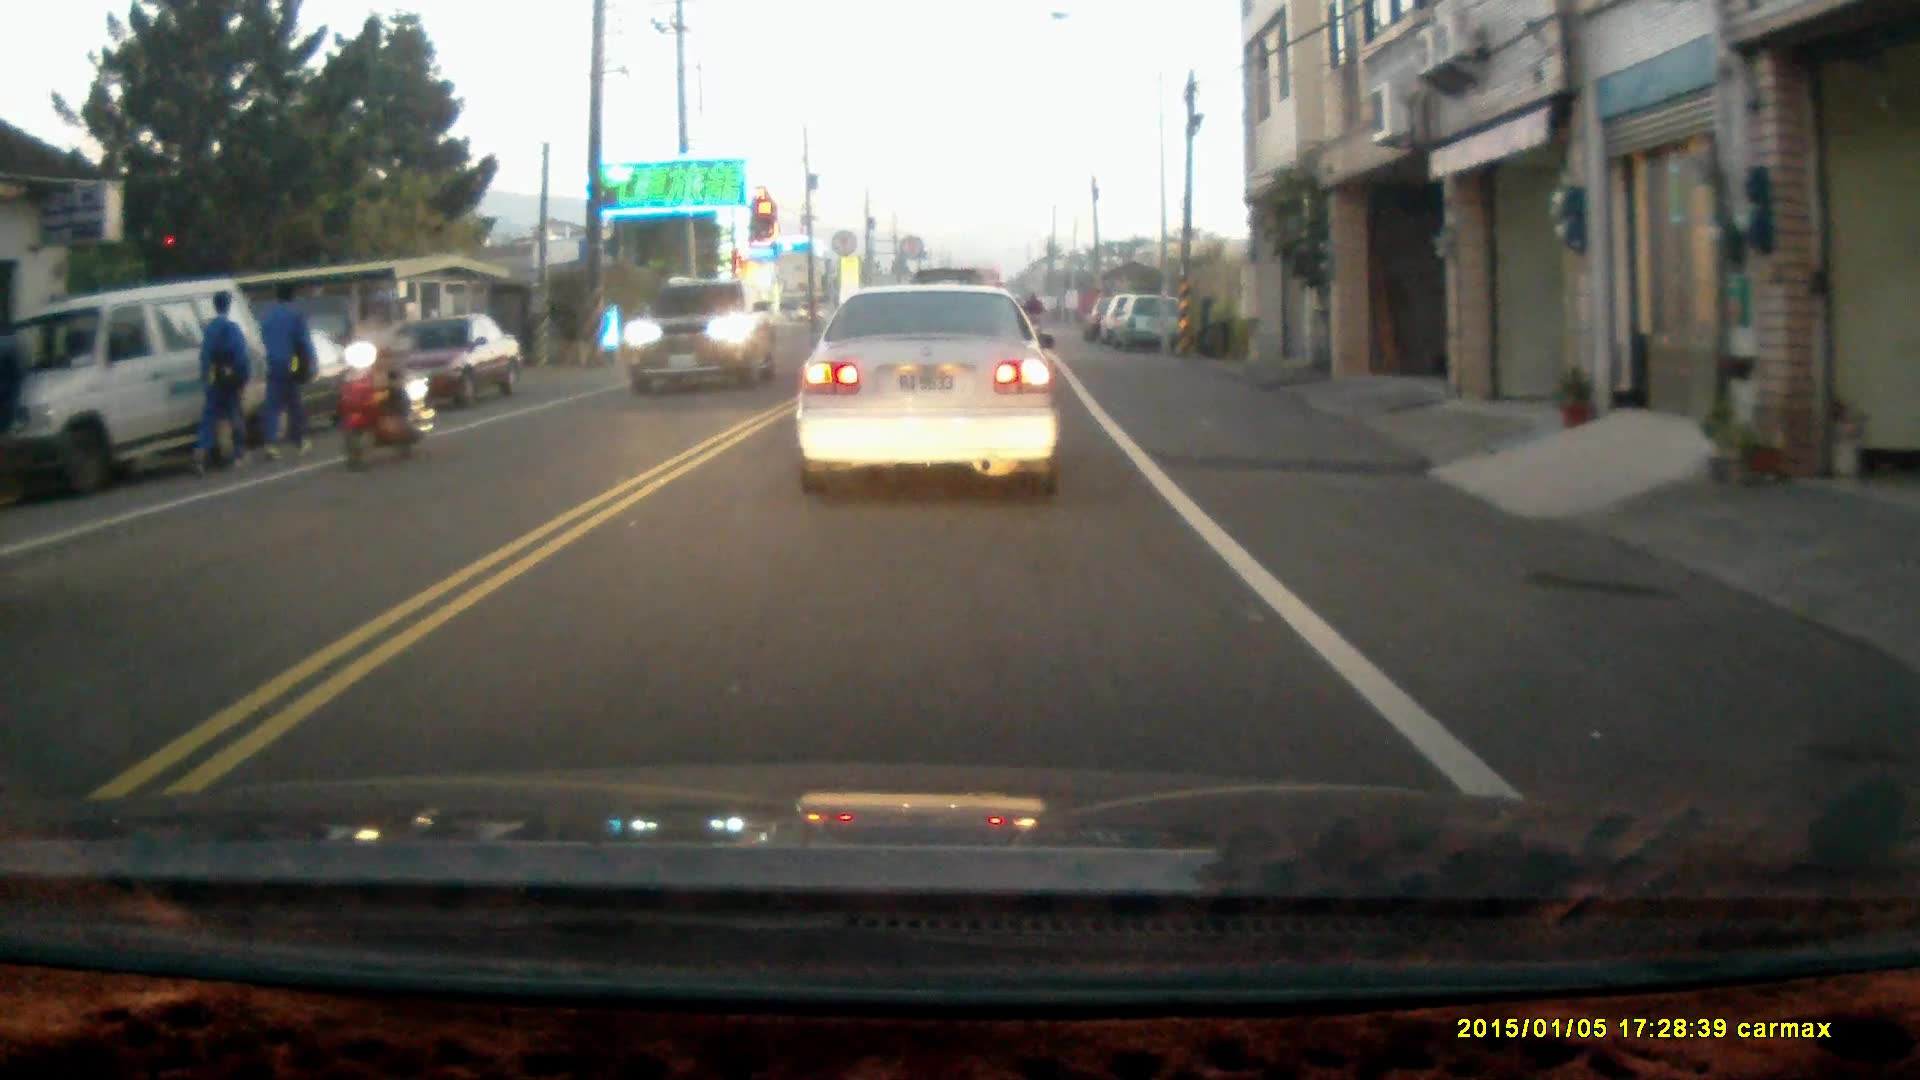pedestrian: (254, 275, 319, 463), (188, 287, 250, 473)
rider: (330, 286, 433, 468)
vehicle: (795, 282, 1064, 503), (2, 280, 257, 491), (136, 319, 358, 437), (624, 278, 774, 399), (361, 313, 526, 417), (1112, 296, 1191, 357)
